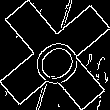O_NE: (21, 22, 89, 88)
